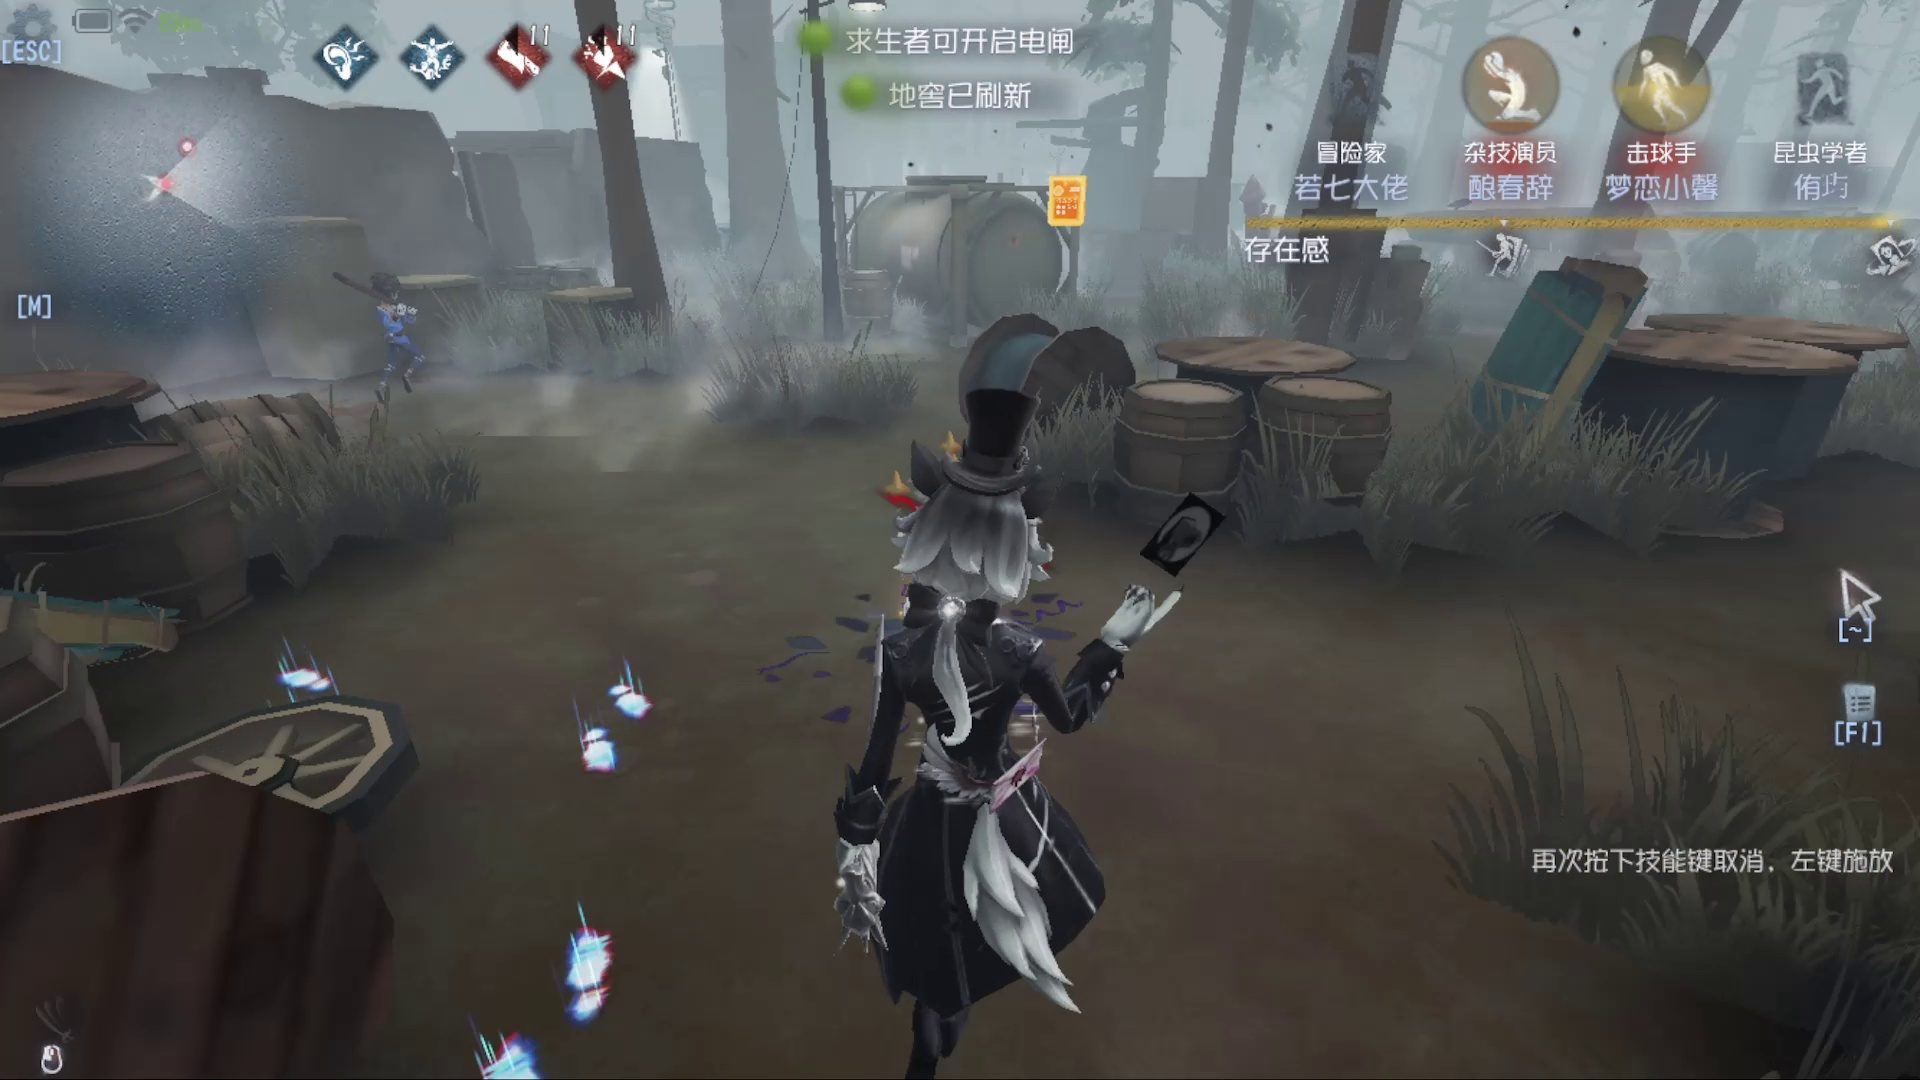木板: (1448, 251, 1604, 476)
求生者: (363, 248, 433, 402)
